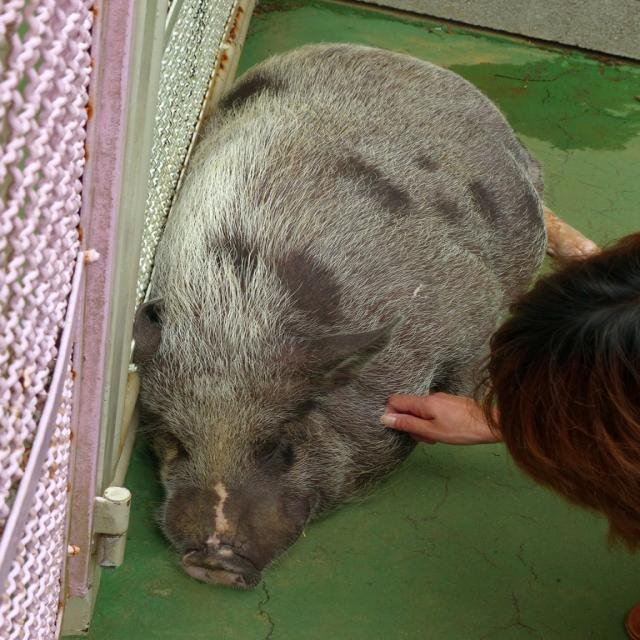Pig: (130, 41, 546, 590)
